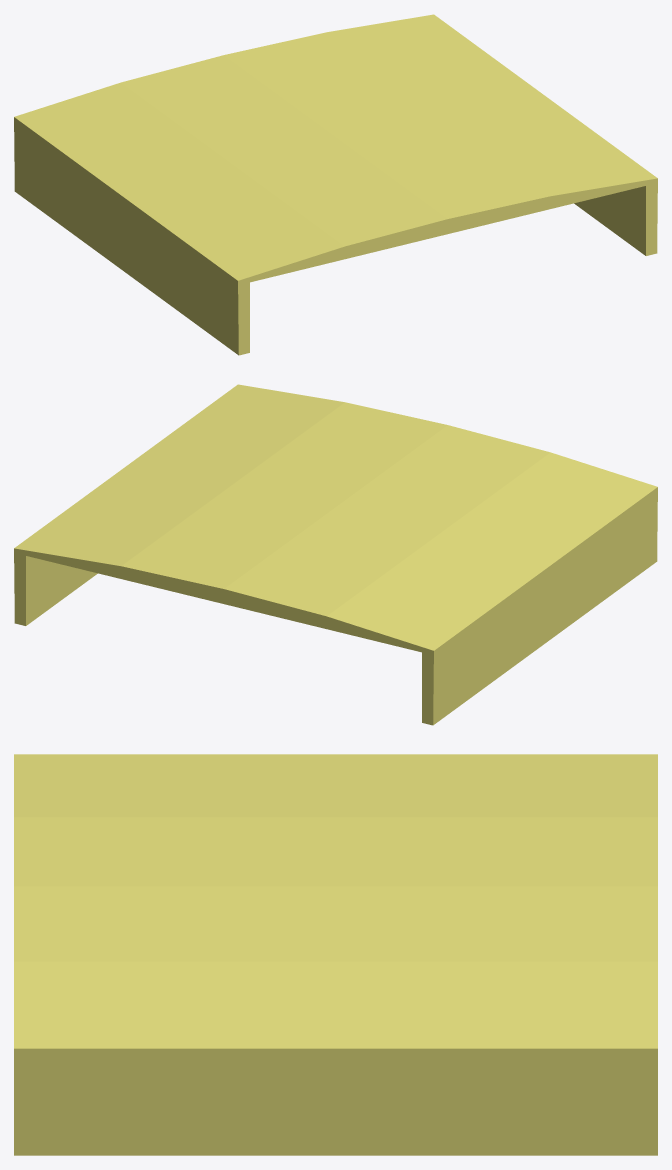
Rendered from Itr_Bed_Double_Blanket_09.FBX.
3 renders of one model, top to bottom at view 1: azimuth 30°, elevation 25°; view 2: azimuth 150°, elevation 25°; view 3: azimuth 270°, elevation 25°, orthographic. The views are drawn at different scales.
Visible parts, largest first — view 1: Itr_Bed_Double_Blanket_09; view 2: Itr_Bed_Double_Blanket_09; view 3: Itr_Bed_Double_Blanket_09.
Boxes of the visible parts, <box> form: Itr_Bed_Double_Blanket_09: <box>14,14,657,355</box>; Itr_Bed_Double_Blanket_09: <box>14,384,657,725</box>; Itr_Bed_Double_Blanket_09: <box>14,754,657,1155</box>.
Bounding box in the file's own units: 70.21 × 13.65 × 64.86.
